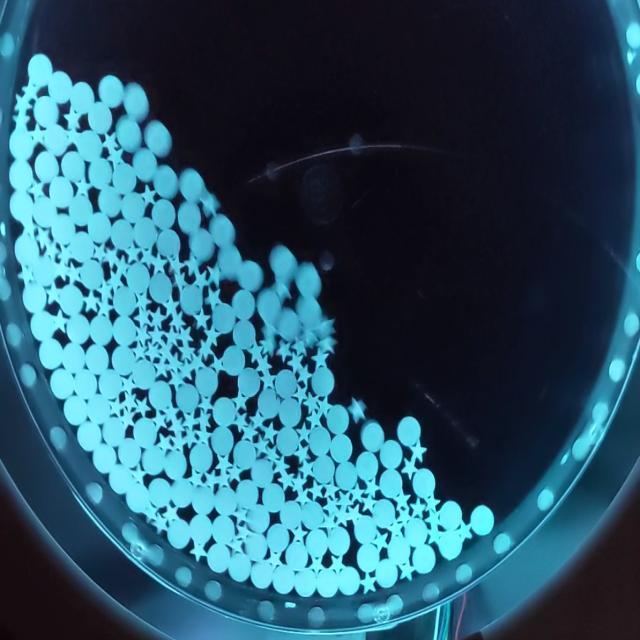disco blanco: (111, 114, 142, 150), (144, 119, 174, 156), (295, 260, 325, 296), (186, 226, 215, 263), (270, 245, 298, 282), (84, 100, 114, 134), (30, 149, 60, 183), (117, 189, 146, 222), (48, 174, 76, 208), (8, 128, 35, 163), (130, 354, 156, 390), (177, 168, 205, 201), (130, 150, 158, 183), (231, 317, 258, 351), (32, 94, 59, 128), (470, 503, 496, 538), (396, 411, 421, 447), (209, 215, 237, 247), (378, 438, 406, 470), (67, 194, 94, 227), (124, 85, 148, 122), (97, 184, 123, 218), (8, 158, 34, 192), (239, 257, 264, 292), (132, 214, 157, 249), (27, 53, 55, 84), (78, 257, 104, 290), (212, 300, 236, 335), (295, 295, 323, 325), (9, 188, 33, 223), (176, 202, 203, 233), (47, 71, 73, 103), (154, 226, 180, 258), (98, 73, 122, 107), (89, 156, 113, 190), (310, 453, 336, 484), (354, 450, 380, 481), (152, 162, 175, 197), (29, 309, 54, 341), (437, 528, 462, 560), (404, 514, 429, 546), (98, 368, 123, 400), (113, 313, 136, 347), (440, 498, 463, 532), (149, 378, 172, 412), (66, 314, 92, 344), (360, 420, 386, 450), (84, 343, 110, 373), (221, 343, 246, 374), (69, 231, 94, 262), (50, 212, 75, 243), (412, 467, 436, 499), (412, 543, 436, 575), (112, 284, 136, 316), (22, 281, 46, 313), (62, 151, 85, 184), (177, 286, 204, 314), (231, 288, 256, 318), (373, 498, 398, 528), (90, 314, 113, 346), (330, 432, 353, 464), (308, 425, 331, 457), (373, 561, 400, 588), (325, 401, 351, 429), (110, 344, 135, 373), (217, 247, 242, 276), (387, 536, 412, 565), (274, 367, 298, 397), (276, 307, 300, 337), (70, 82, 94, 112), (126, 262, 150, 292), (357, 541, 379, 573), (150, 272, 172, 304), (310, 367, 336, 394), (62, 340, 85, 370), (335, 460, 358, 490), (238, 366, 260, 397), (259, 388, 279, 422), (257, 288, 280, 317), (379, 469, 402, 498), (354, 515, 376, 543), (177, 383, 198, 412)
estrella blanca: (60, 103, 85, 133), (315, 311, 338, 340), (205, 261, 227, 287), (272, 277, 294, 303), (347, 396, 368, 423), (134, 286, 154, 314), (318, 329, 339, 355), (196, 337, 217, 363), (200, 191, 220, 218), (258, 332, 278, 359), (409, 438, 428, 466), (192, 304, 211, 332), (162, 294, 182, 320), (184, 252, 203, 279), (372, 526, 390, 554), (398, 453, 418, 478), (298, 457, 318, 482), (100, 128, 119, 154), (101, 247, 122, 270), (228, 390, 252, 410), (176, 322, 194, 348), (252, 433, 270, 459), (192, 409, 214, 430), (132, 306, 152, 329), (154, 433, 174, 456), (423, 490, 442, 514), (290, 521, 308, 546), (273, 452, 291, 477), (274, 338, 294, 360), (176, 340, 196, 362), (133, 396, 153, 418), (162, 503, 182, 525), (409, 497, 428, 520), (132, 324, 151, 347), (196, 392, 215, 415), (64, 125, 82, 149), (231, 502, 249, 526), (290, 334, 309, 356), (194, 424, 213, 446), (263, 421, 281, 444), (227, 460, 245, 483), (163, 324, 180, 348), (188, 466, 205, 490), (122, 242, 142, 262), (150, 252, 168, 274), (322, 495, 340, 517), (304, 391, 321, 414), (364, 476, 381, 499), (203, 468, 220, 491), (308, 554, 326, 575), (168, 253, 185, 275), (142, 502, 159, 524), (323, 477, 339, 500), (266, 547, 282, 570), (165, 352, 183, 372), (168, 416, 186, 436), (107, 397, 125, 417), (234, 522, 252, 542), (148, 325, 165, 346), (121, 391, 138, 412), (140, 245, 156, 267), (249, 342, 265, 364), (348, 482, 364, 504), (92, 240, 108, 262), (396, 489, 411, 512), (361, 572, 376, 595), (298, 364, 313, 386), (328, 555, 344, 575), (120, 407, 135, 428), (295, 487, 310, 508)
